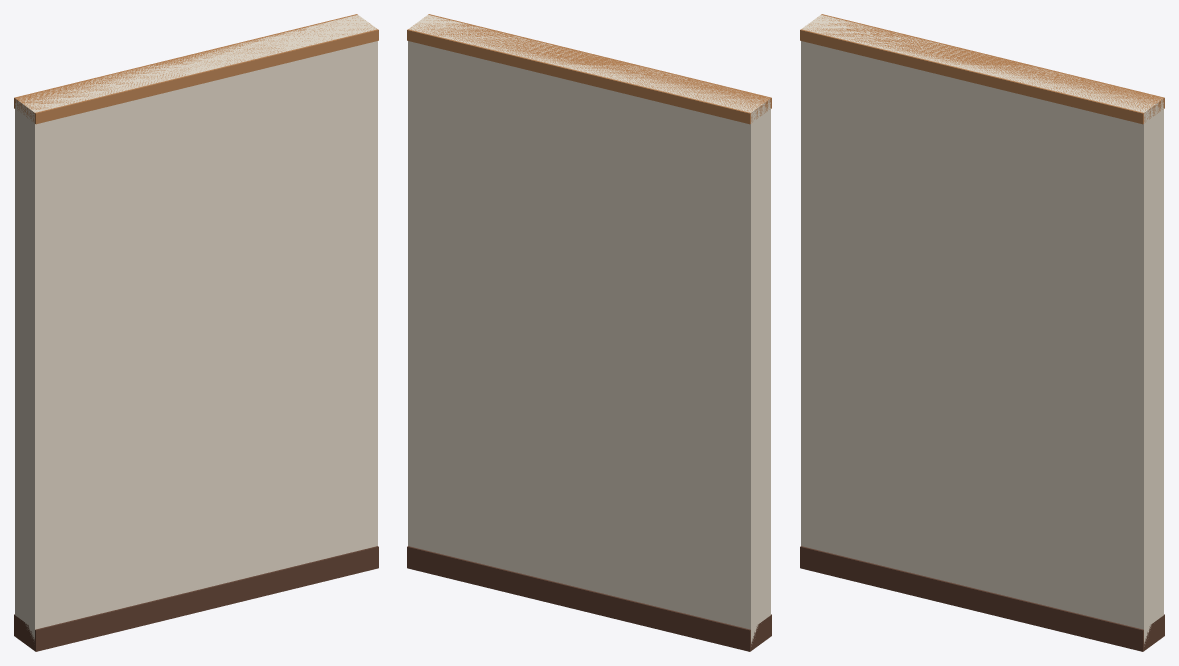
Rendered from wall_straight_2m.glb.
3 views of the same model, side by side, from view 1: azimuth 30°, elevation 25°; view 2: azimuth 150°, elevation 25°; view 3: azimuth 330°, elevation 25° (orthographic).
Parts seen in each view (by area): view 1: wall_straight_2m; view 2: wall_straight_2m; view 3: wall_straight_2m.
Boxes of the visible parts, left/top/right/bottom form: wall_straight_2m: left=14, top=14, right=378, bottom=651; wall_straight_2m: left=407, top=14, right=771, bottom=651; wall_straight_2m: left=800, top=14, right=1164, bottom=651.
Size of the model in its own units: 2 by 3 by 0.22.
